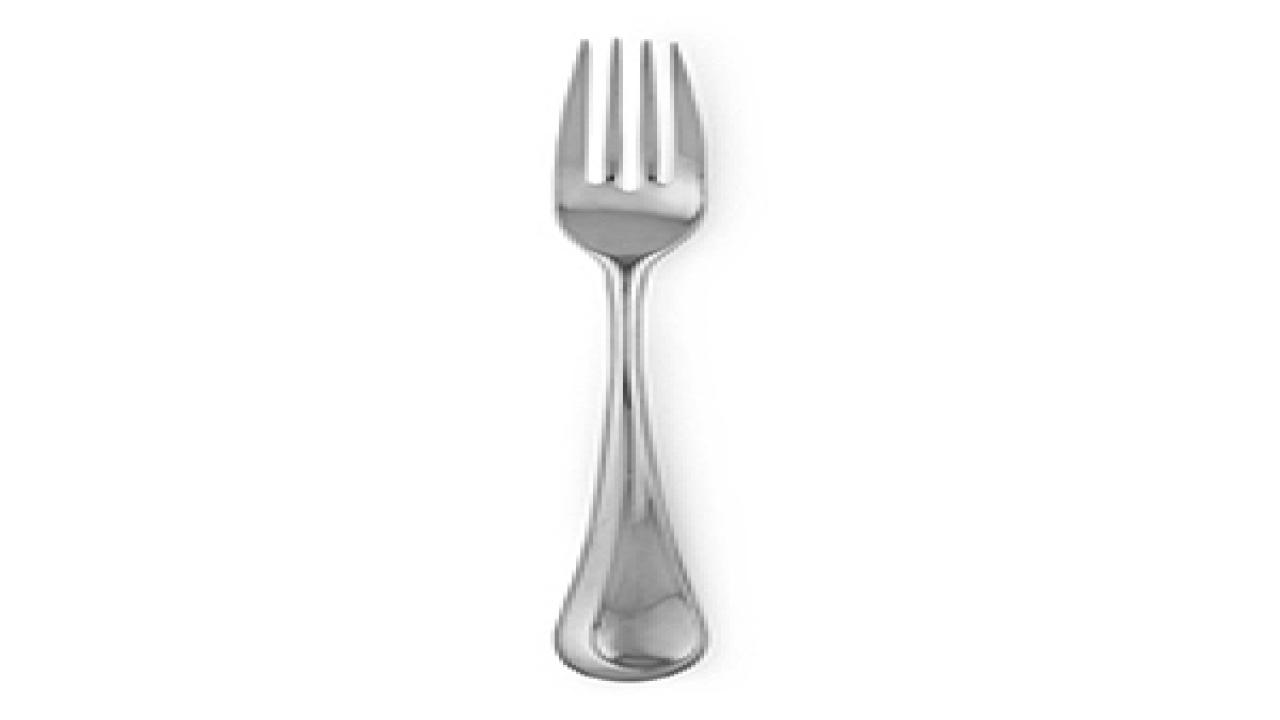fork: (546, 34, 708, 681)
